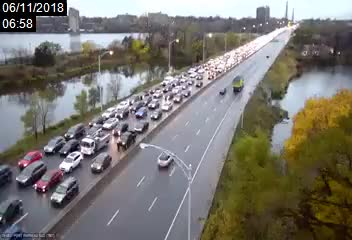congestion: (1, 152, 98, 236), (35, 120, 135, 158), (100, 102, 162, 123), (126, 89, 185, 103), (158, 73, 208, 87), (188, 64, 224, 76)
personal_car: (49, 179, 79, 206), (1, 195, 23, 226), (16, 164, 44, 184), (89, 152, 112, 176), (59, 153, 84, 174), (36, 171, 62, 191), (157, 146, 174, 169), (116, 131, 138, 148), (17, 152, 44, 165), (44, 137, 65, 152), (66, 125, 88, 138), (1, 162, 12, 187), (113, 122, 129, 137), (132, 120, 150, 132), (102, 118, 119, 129), (62, 140, 76, 153), (102, 106, 115, 118), (148, 109, 162, 120), (91, 117, 105, 128), (113, 109, 129, 118), (161, 101, 174, 111), (136, 108, 148, 118), (117, 101, 127, 111), (127, 94, 138, 103), (148, 100, 160, 108), (129, 102, 140, 110), (141, 95, 150, 104), (149, 85, 158, 93), (153, 89, 162, 97), (173, 94, 182, 102), (218, 87, 226, 95), (165, 92, 173, 100)
truck: (79, 131, 112, 156), (231, 74, 245, 92)
